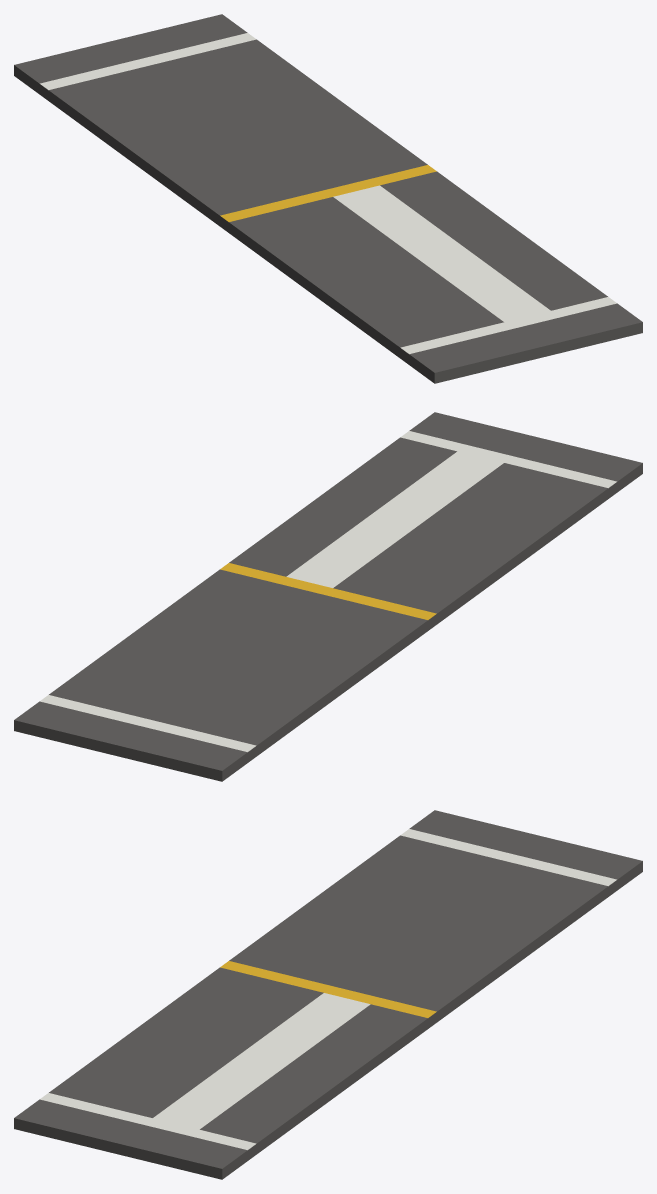
Rendered from SM_Ground_RoadStop_700x200_L_01.fbx.
3 renders of one model, top to bottom at view 1: azimuth 30°, elevation 25°; view 2: azimuth 150°, elevation 25°; view 3: azimuth 330°, elevation 25°, orthographic.
Parts seen in each view (by area): view 1: SM_Ground_RoadStop_700x200_L_01; view 2: SM_Ground_RoadStop_700x200_L_01; view 3: SM_Ground_RoadStop_700x200_L_01.
Part boxes in pixels (x1,y1,x2,y2): SM_Ground_RoadStop_700x200_L_01: (14,14,642,383); SM_Ground_RoadStop_700x200_L_01: (14,412,642,781); SM_Ground_RoadStop_700x200_L_01: (14,810,642,1179).
Size of the model in its own units: 2 by 0.1 by 7.
1 material, 1 textured.
